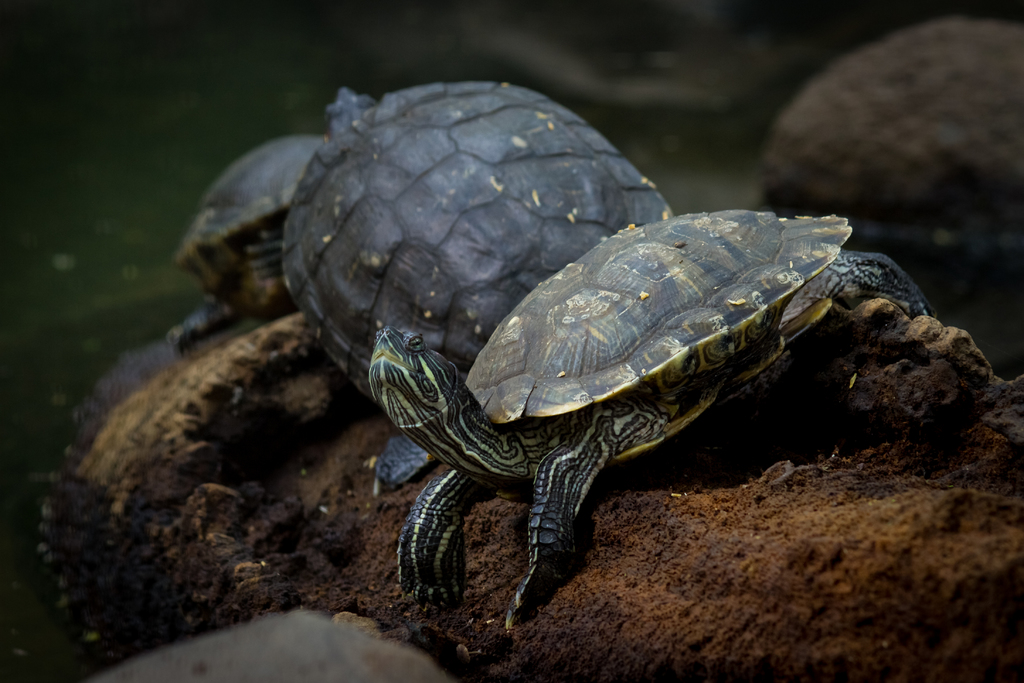Sea turtles: (361, 204, 940, 640), (277, 76, 683, 498), (167, 130, 341, 358)
